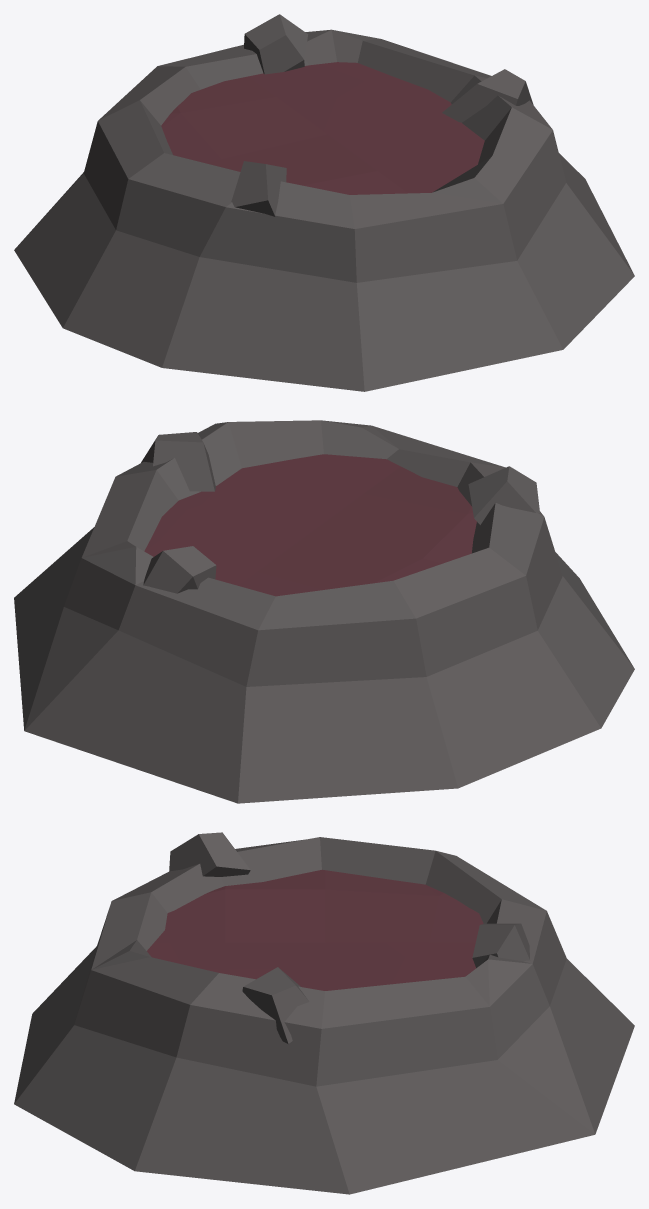
File: crater-water.glb
3 renders of one model, top to bottom at view 1: azimuth 30°, elevation 25°; view 2: azimuth 150°, elevation 25°; view 3: azimuth 270°, elevation 25°, orthographic. The views are drawn at different scales.
Parts seen in each view (by area): view 1: crater-water; view 2: crater-water; view 3: crater-water.
Boxes of the visible parts, <box> form: crater-water: <box>14,14,634,391</box>; crater-water: <box>14,420,634,803</box>; crater-water: <box>14,832,634,1194</box>.
Size of the model in its own units: 1.4 by 0.4228 by 1.38.
2 materials, 1 textured.
